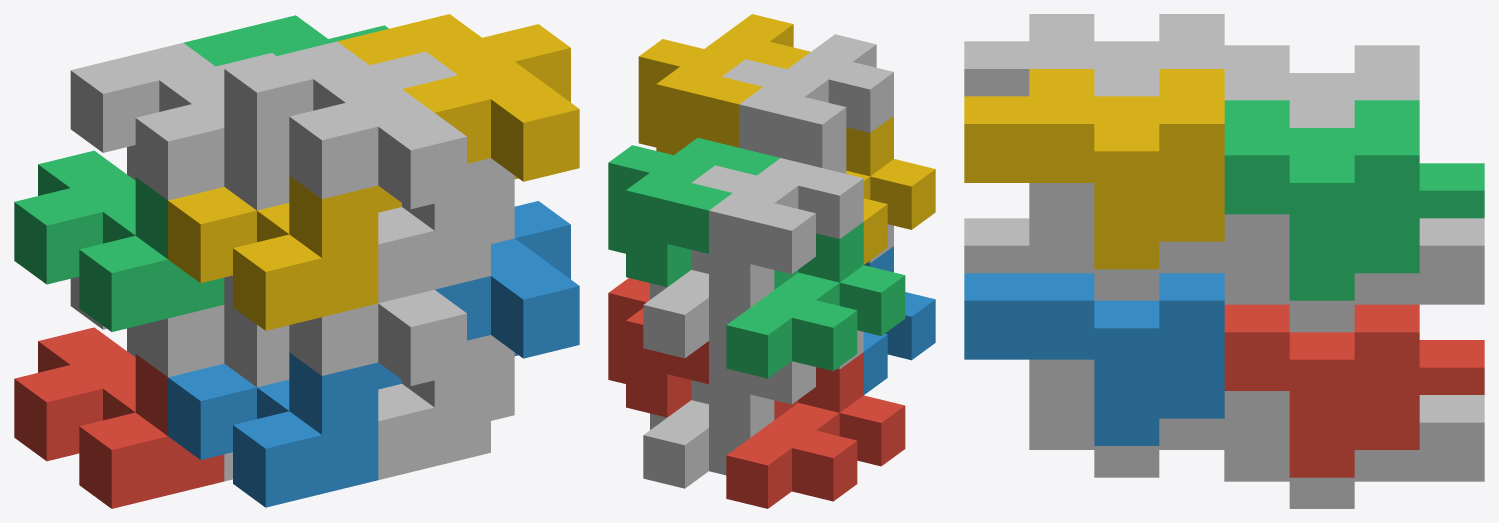
Rendered from tiling.obj.
The picture shows the model from 3 angles, left to right: view 1: azimuth 30°, elevation 25°; view 2: azimuth 150°, elevation 25°; view 3: azimuth 270°, elevation 25°; orthographic projection. The views are drawn at different scales.
Visible parts, largest first — view 1: copy_2_domain_4, copy_1_domain_2, copy_1_domain_4, copy_1_domain_3, copy_1_domain_1, copy_2_domain_3, copy_2_domain_8, copy_2_domain_6, copy_1_domain_8, copy_1_domain_6, copy_2_domain_2, copy_2_domain_1 (+1 smaller); view 2: copy_2_domain_3, copy_1_domain_3, copy_1_domain_1, copy_2_domain_4, copy_2_domain_7, copy_2_domain_8, copy_2_domain_5, copy_1_domain_4, copy_2_domain_1, copy_1_domain_5, copy_1_domain_7, copy_1_domain_2; view 3: copy_2_domain_8, copy_2_domain_6, copy_2_domain_7, copy_2_domain_5, copy_2_domain_4, copy_1_domain_8, copy_1_domain_6, copy_1_domain_7, copy_1_domain_5, copy_2_domain_3, copy_1_domain_3, copy_2_domain_2 (+1 smaller).
Boxes of the visible parts, x1=… form: copy_2_domain_4: x1=224, y1=41, x2=466, y2=209; copy_1_domain_2: x1=168, y1=352, x2=401, y2=507; copy_1_domain_4: x1=168, y1=175, x2=401, y2=330; copy_1_domain_3: x1=14, y1=150, x2=224, y2=331; copy_1_domain_1: x1=14, y1=327, x2=224, y2=508; copy_2_domain_3: x1=70, y1=43, x2=289, y2=210; copy_2_domain_8: x1=337, y1=14, x2=579, y2=181; copy_2_domain_6: x1=435, y1=201, x2=579, y2=358; copy_1_domain_8: x1=378, y1=158, x2=514, y2=303; copy_1_domain_6: x1=378, y1=335, x2=514, y2=479; copy_2_domain_2: x1=224, y1=275, x2=466, y2=385; copy_2_domain_1: x1=70, y1=277, x2=289, y2=387; copy_2_domain_3: x1=691, y1=151, x2=863, y2=307; copy_1_domain_3: x1=726, y1=222, x2=905, y2=378; copy_1_domain_1: x1=726, y1=352, x2=905, y2=508; copy_2_domain_4: x1=722, y1=34, x2=893, y2=167; copy_2_domain_7: x1=608, y1=138, x2=780, y2=287; copy_2_domain_8: x1=638, y1=14, x2=810, y2=155; copy_2_domain_5: x1=608, y1=278, x2=708, y2=417; copy_1_domain_4: x1=846, y1=116, x2=935, y2=264; copy_2_domain_1: x1=691, y1=330, x2=863, y2=437; copy_1_domain_5: x1=643, y1=400, x2=749, y2=488; copy_1_domain_7: x1=643, y1=270, x2=749, y2=358; copy_1_domain_2: x1=863, y1=246, x2=935, y2=394; copy_2_domain_8: x1=964, y1=69, x2=1224, y2=269; copy_2_domain_6: x1=964, y1=273, x2=1224, y2=445; copy_2_domain_7: x1=1224, y1=100, x2=1419, y2=300; copy_2_domain_5: x1=1224, y1=304, x2=1419, y2=477; copy_2_domain_4: x1=964, y1=14, x2=1224, y2=96; copy_1_domain_8: x1=1029, y1=183, x2=1289, y2=300; copy_1_domain_6: x1=1029, y1=359, x2=1289, y2=477; copy_1_domain_7: x1=1224, y1=218, x2=1484, y2=332; copy_1_domain_5: x1=1224, y1=395, x2=1484, y2=508; copy_2_domain_3: x1=1224, y1=45, x2=1419, y2=127; copy_1_domain_3: x1=1419, y1=163, x2=1484, y2=218; copy_2_domain_2: x1=964, y1=218, x2=1029, y2=273.
Bounding box in the file's own units: 7 × 7 × 8.
